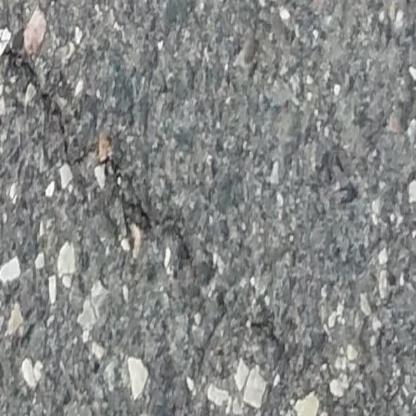Cracks: (2, 0, 94, 167), (100, 153, 192, 265)
